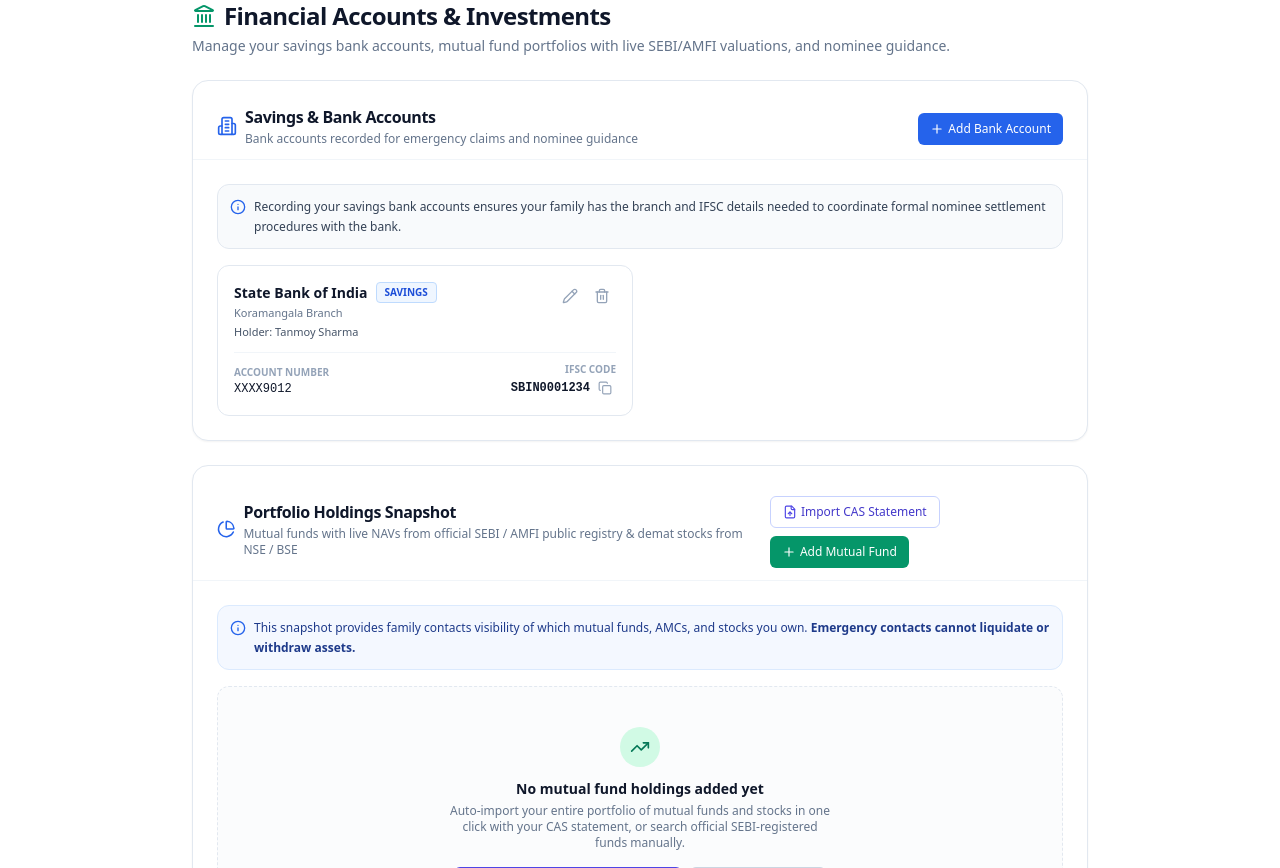
Accounts Feature - Bank Accounts & Mutual Funds › opens Add Mutual Fund dialog when Add Mutual Fund is clicked
This screenshot has width=1280, height=868.
What coordinates should you click on to do the following:
click the button "Add Mutual Fund"
I would click on:
 (839, 552)
Its box is x1=770 y1=536 x2=909 y2=568.
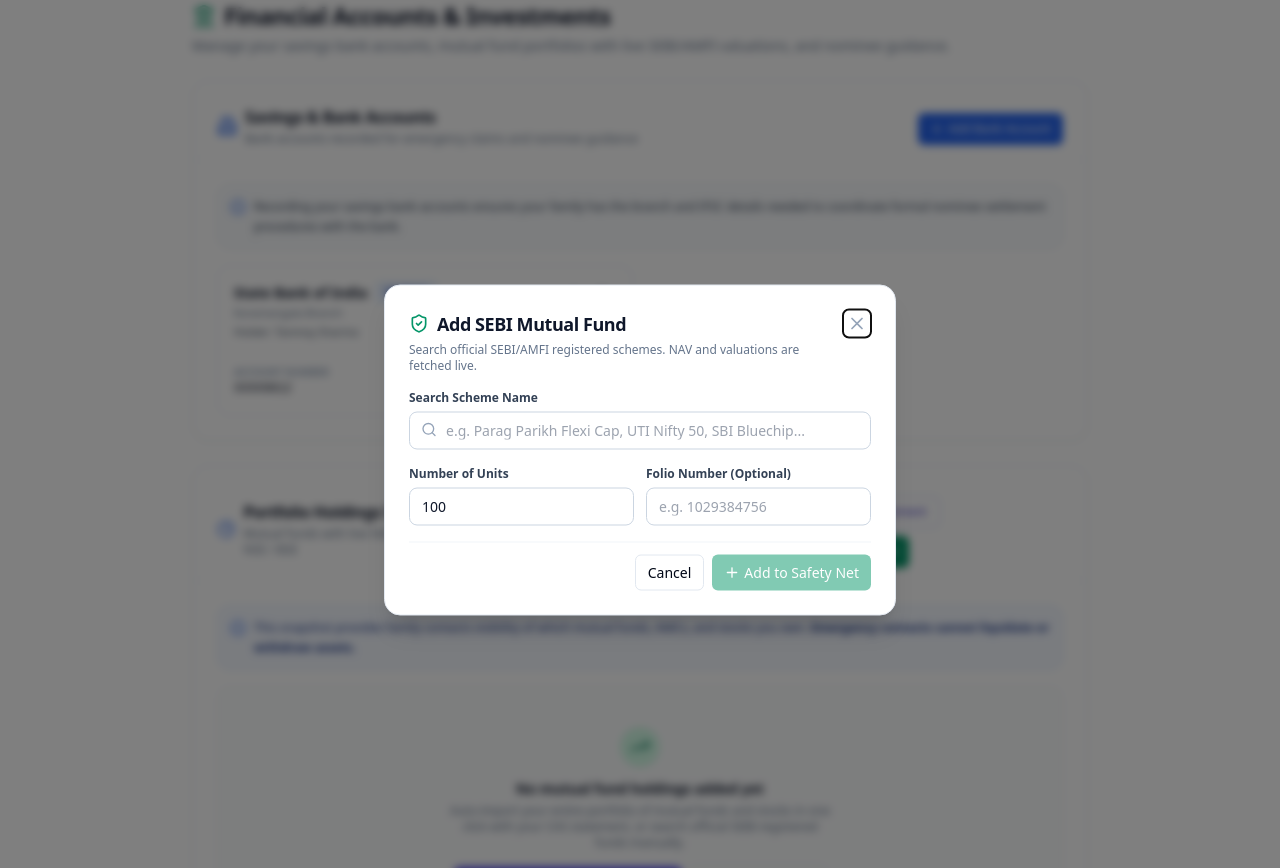
Now the heading "Add SEBI Mutual Fund" is shown, box x1=409 y1=312 x2=626 y2=336
